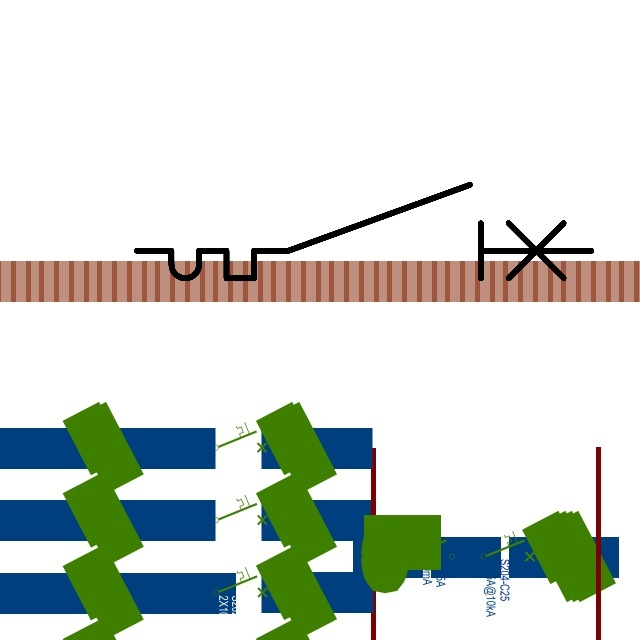interruptor_termomagnetico: (125, 173, 603, 290)
